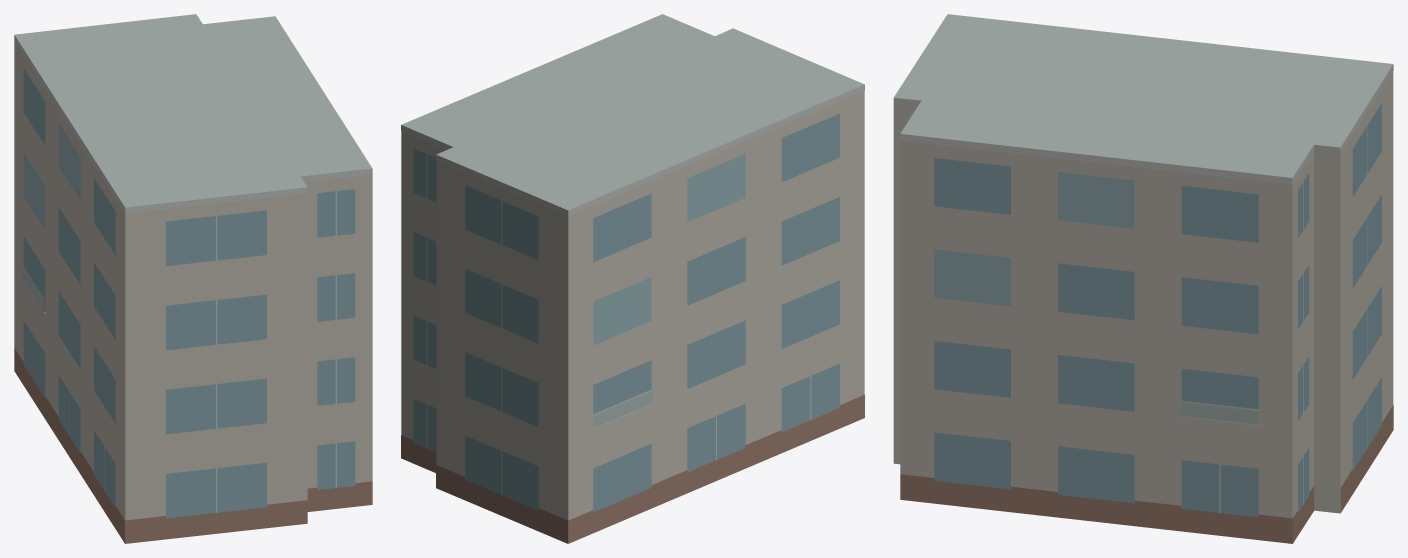
The model's file is survey-upis-32660203.glb.
The picture shows the model from 3 angles, left to right: view 1: azimuth 30°, elevation 25°; view 2: azimuth 150°, elevation 25°; view 3: azimuth 270°, elevation 25°; orthographic projection. The views are drawn at different scales.
Visible parts, largest first — view 1: survey-upis-32660203.tmp; view 2: survey-upis-32660203.tmp; view 3: survey-upis-32660203.tmp.
Boxes of the visible parts, left/top/right/bottom form: survey-upis-32660203.tmp: left=14, top=14, right=372, bottom=543; survey-upis-32660203.tmp: left=401, top=14, right=864, bottom=543; survey-upis-32660203.tmp: left=893, top=14, right=1393, bottom=543.
Bounding box in the file's own units: 12.5 × 13 × 16.11.
